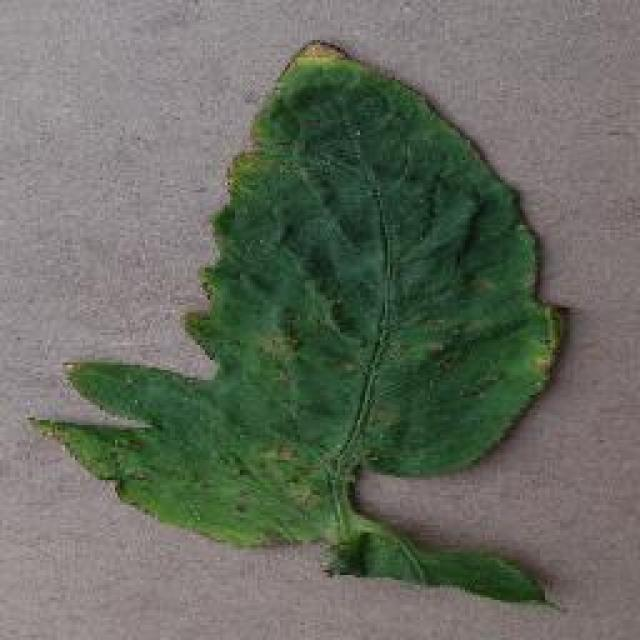Tomato bacterial spot leaf: (25, 33, 562, 552)
